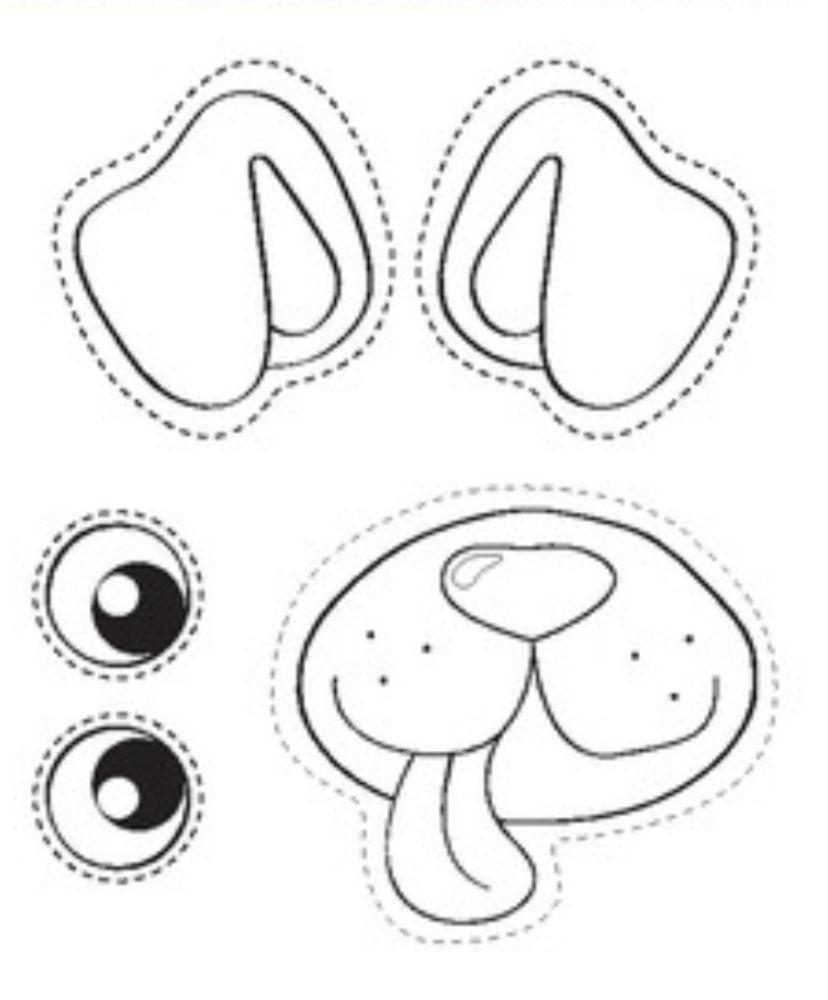non-dog: (16, 40, 784, 952)
